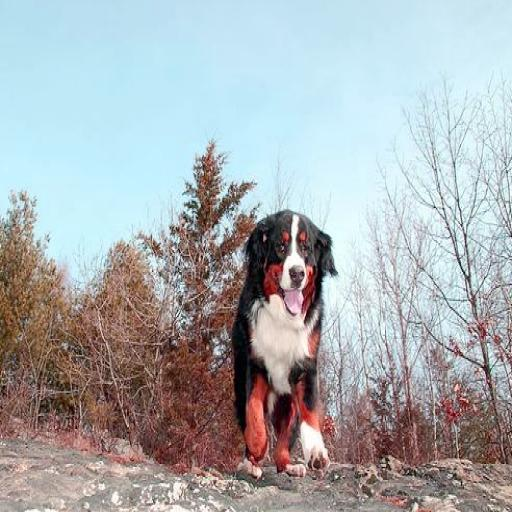dog_face: (248, 206, 332, 309)
